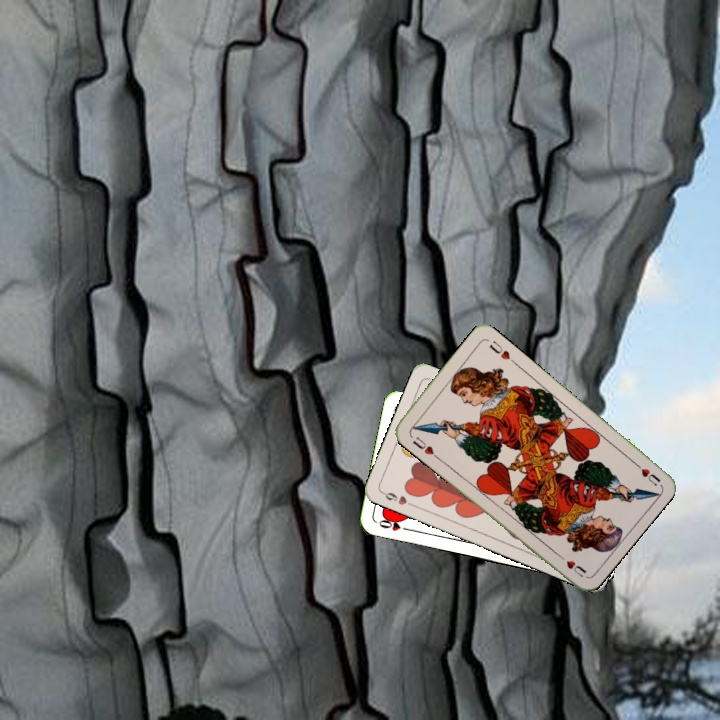H9: (378, 488, 417, 509)
HO: (375, 515, 414, 534)
HU: (628, 457, 663, 488), (408, 432, 440, 460)
